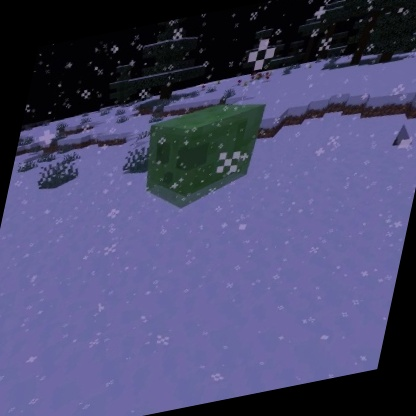slime: (128, 90, 273, 223)
